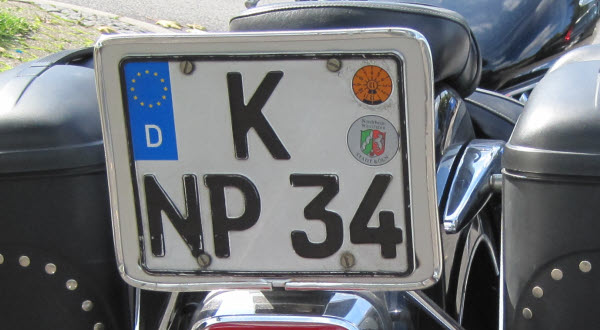license_plate: (119, 50, 416, 279)
